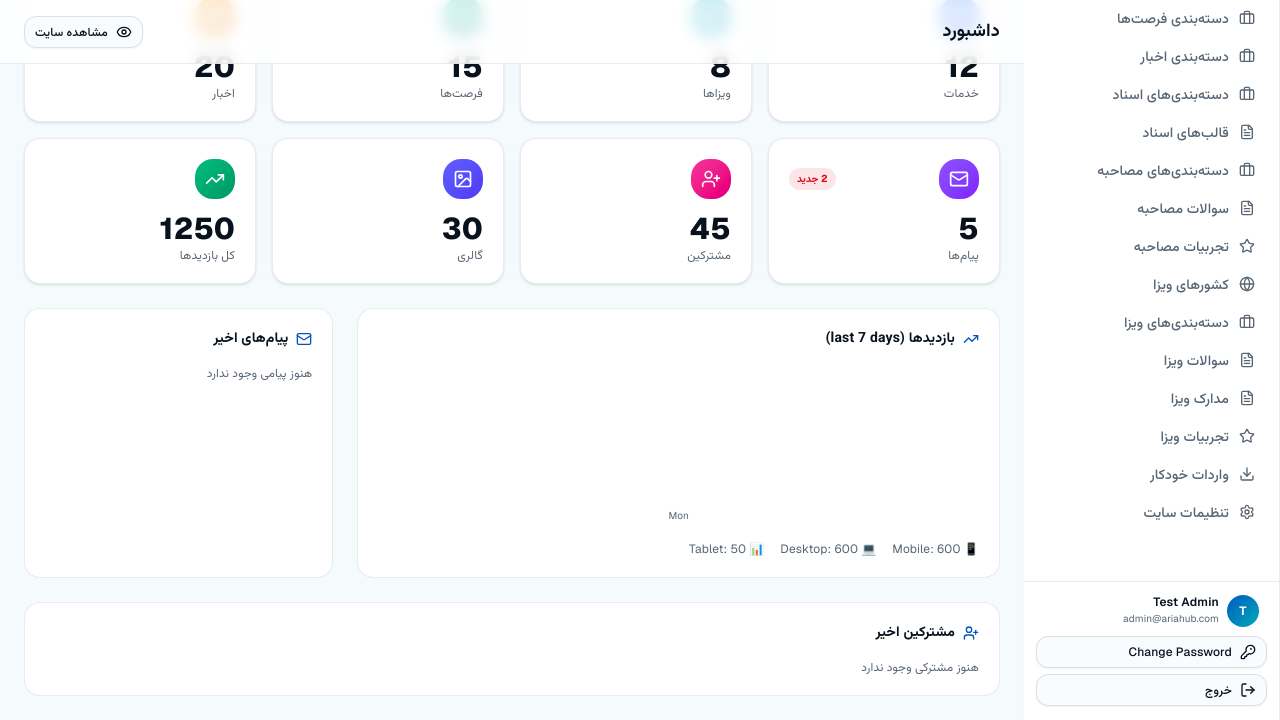
Test: Settings Panel Unit Tests › Field Labels - Requirements 7.2, 7.4 › renders color field labels with Persian translations
(page scrolled)
Expected: the text "تنظیمات سایت" is shown, x1=1144 y1=502 x2=1229 y2=522
Click the button "تنظیمات سایت". click: (1152, 512)
box: x1=1036 y1=494 x2=1267 y2=530
(page scrolled)
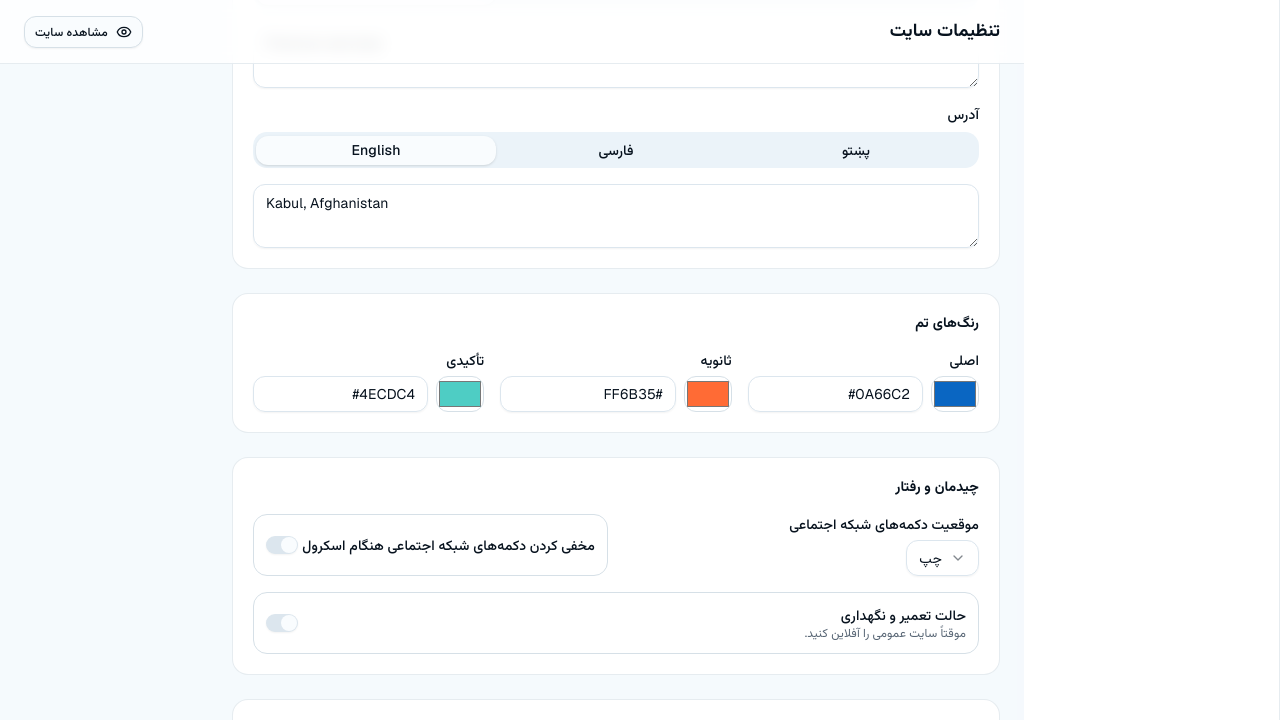
Result: the text "اصلی" is shown at x1=950 y1=351 x2=979 y2=369
Result: the text "ثانویه" is shown at x1=700 y1=351 x2=732 y2=369
Result: the text "تأکیدی" is shown at x1=446 y1=351 x2=484 y2=369
